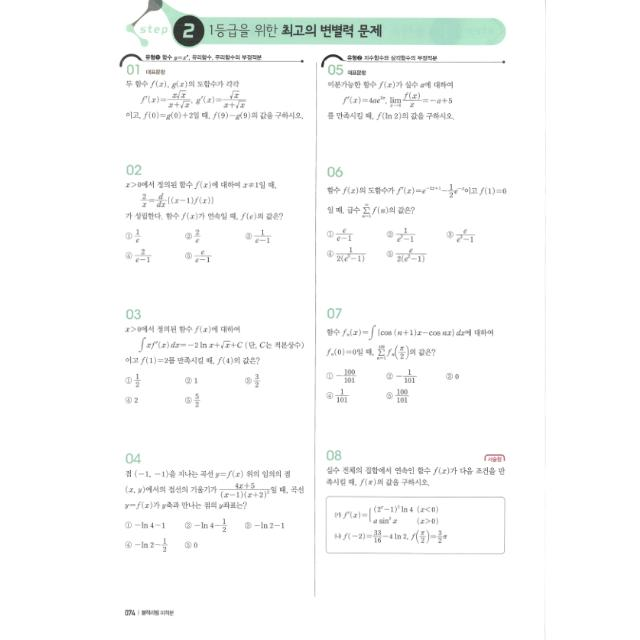multiple: (316, 298, 506, 414), (116, 302, 308, 416), (117, 447, 307, 561), (320, 161, 512, 271), (116, 159, 288, 269)
short: (318, 442, 516, 564), (318, 47, 512, 133), (112, 48, 308, 128)
